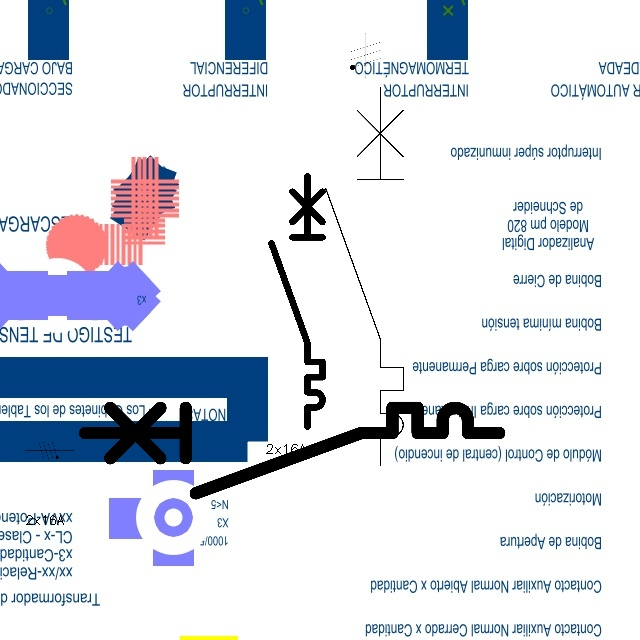interruptor_termomagnetico: (74, 397, 510, 503), (316, 77, 413, 474), (265, 170, 329, 433)
